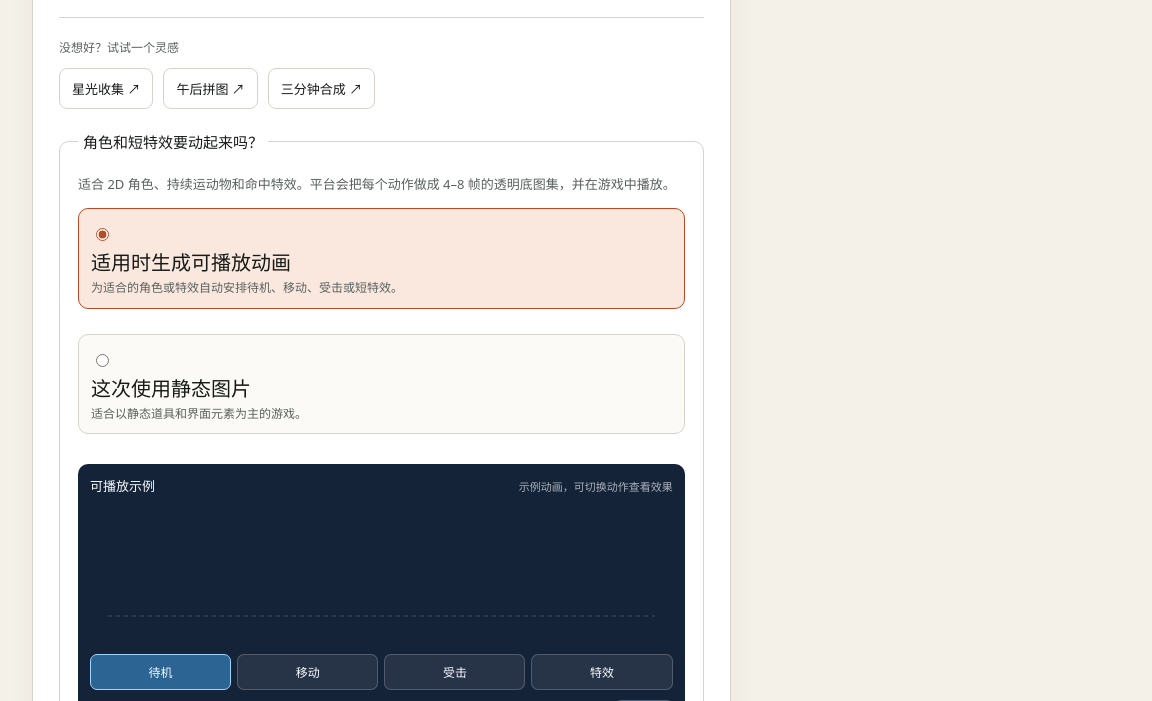
Scenario: creation workbench › 新游戏可选择静态资源，并在方案阶段透传动画偏好
(page scrolled)
Click the radio button labelled "这次使用静态图片 适合以静态道具和界面元素为主的游戏。": (102, 360) [96,354,109,367]
(page scrolled)
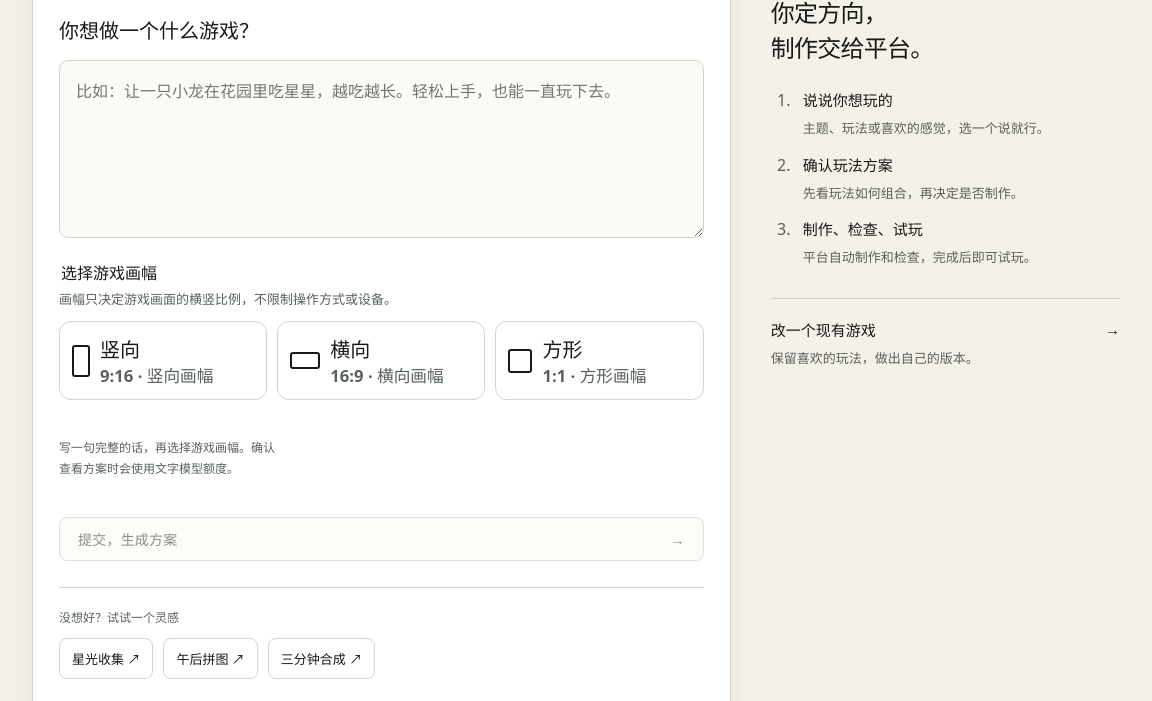
Click the radio button labelled "竖向 9:16 · 竖向画幅": (163, 361) [59,321,267,400]
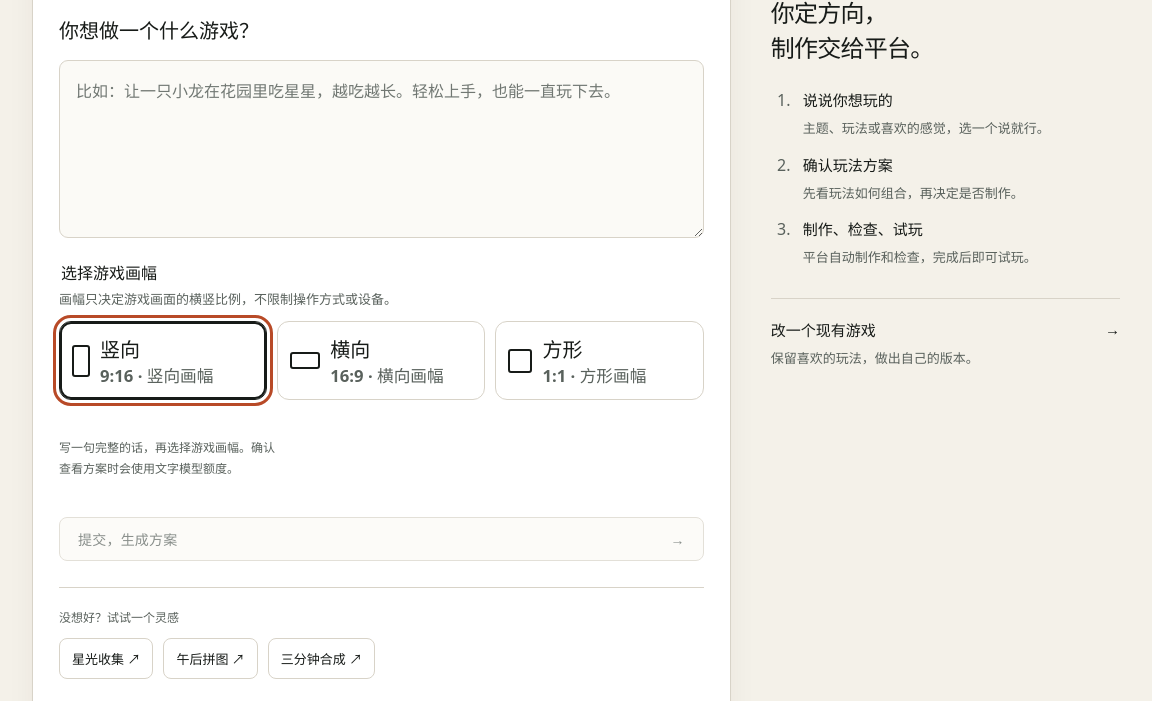
In the text box labelled "你想做一个什么游戏？": (381, 149) [59,60,704,238], type "在雨林里驾驶小船收集萤火虫，避开漩涡后抵达营地"
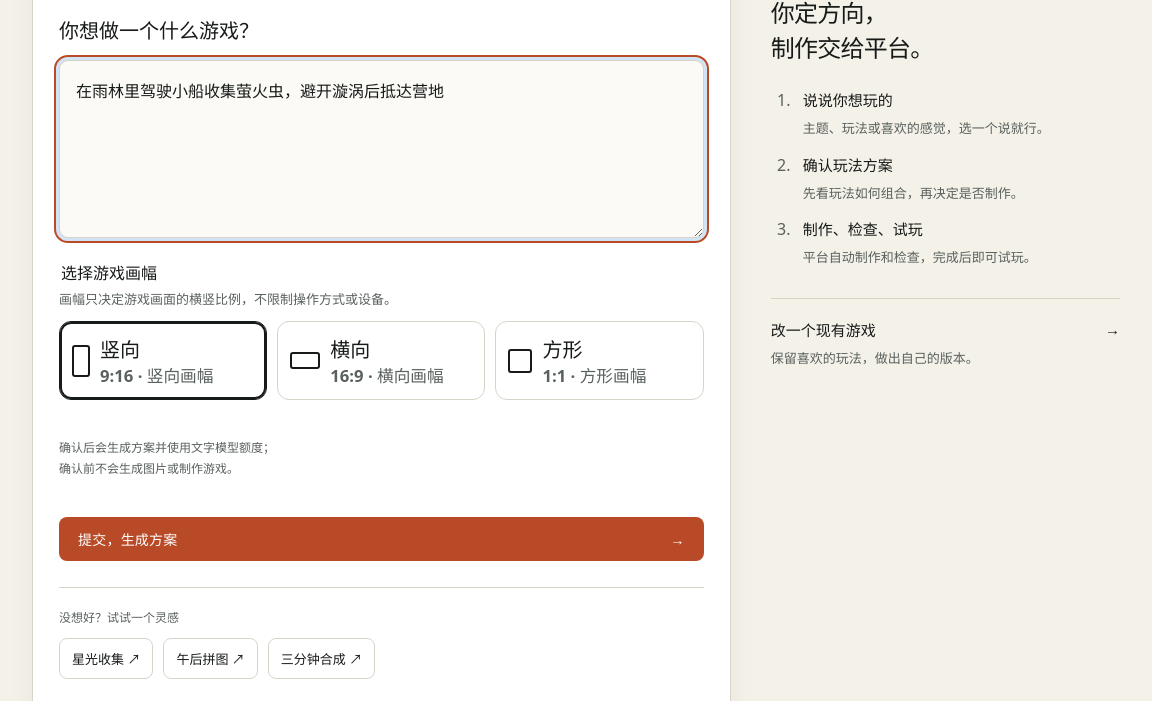
Click the button "提交，生成方案 →": (128, 540) [59,517,704,561]
(page scrolled)
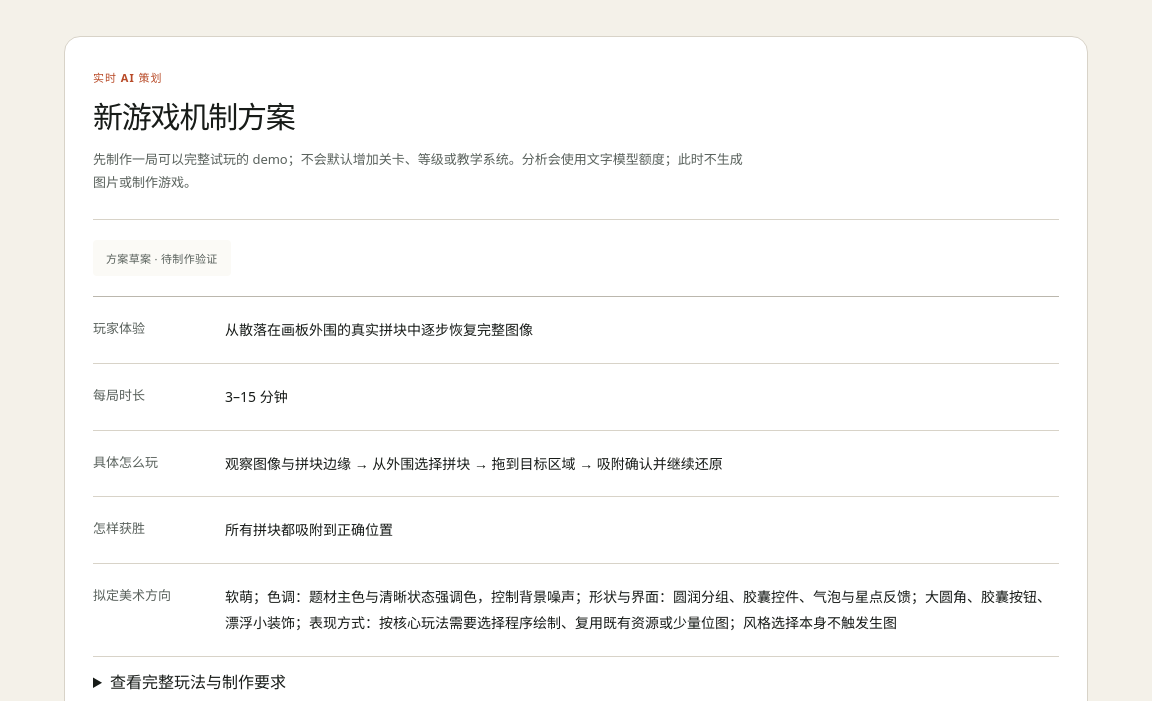
Expected: the text "方案草案 · 待制作验证" is shown, [93,240,231,276]
